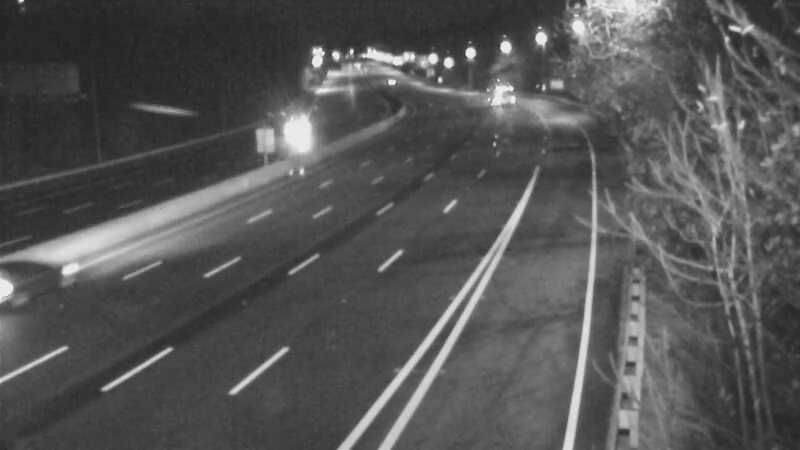vehicle: (1, 237, 73, 317), (361, 57, 411, 107), (465, 66, 515, 116), (269, 105, 319, 155)
